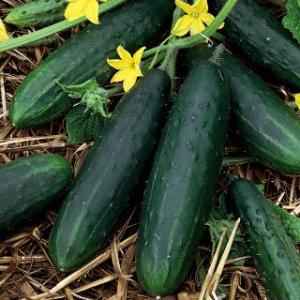cucumber: (49, 66, 176, 280), (134, 57, 231, 300), (11, 0, 178, 130), (176, 30, 300, 174), (224, 176, 300, 300), (200, 0, 300, 92), (0, 152, 72, 244)
